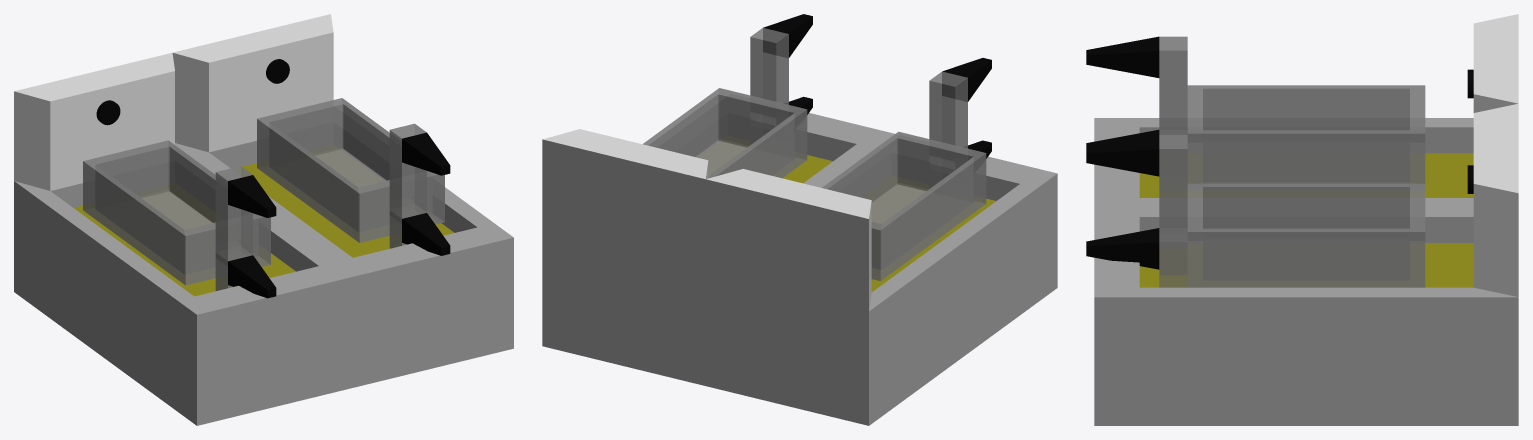
The model's file is Fryer.fbx.
3 views of the same model, side by side, from view 1: azimuth 30°, elevation 25°; view 2: azimuth 150°, elevation 25°; view 3: azimuth 270°, elevation 25° (orthographic). The views are drawn at different scales.
Visible parts, largest first — view 1: Cube, Fryer2O, Fryer1O, Fryer1I, Fryer2I, Cylinder; view 2: Cube, Fryer1O, Fryer2O, Fryer1I, Fryer2I; view 3: Cube, Fryer2O, Fryer1O, Fryer2I, Fryer1I, Cylinder.
Boxes of the visible parts, x1,y1,x2,y2 form: Cube: (14,14,513,425); Fryer2O: (257,98,450,242); Fryer1O: (83,140,276,285); Fryer1I: (215,246,276,298); Fryer2I: (389,204,450,255); Cylinder: (96,59,289,125); Cube: (542,113,1057,425); Fryer1O: (822,58,991,280); Fryer2O: (643,14,812,178); Fryer1I: (929,140,991,188); Fryer2I: (750,96,812,144); Cube: (1094,14,1518,425); Fryer2O: (1086,135,1425,287); Fryer1O: (1086,36,1425,183); Fryer2I: (1086,228,1187,287); Fryer1I: (1086,129,1187,148); Cylinder: (1467,69,1473,193).
Size of the model in its own units: 200 by 127 by 204.
